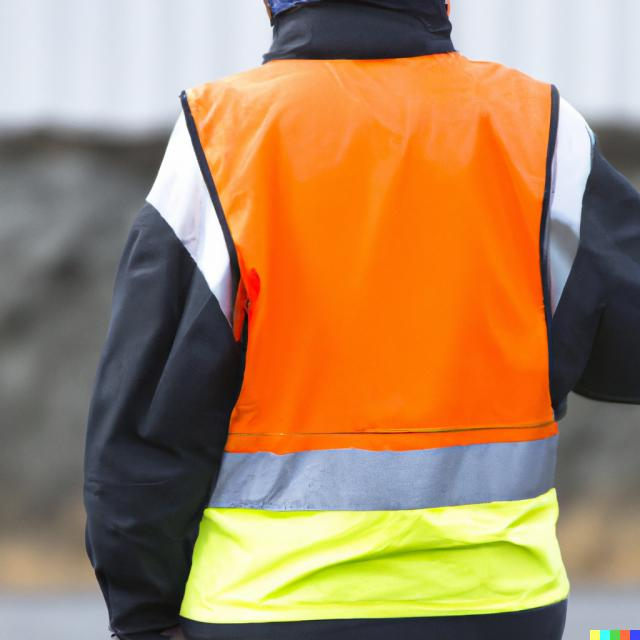Reflective-Jacket: (159, 21, 587, 640)
